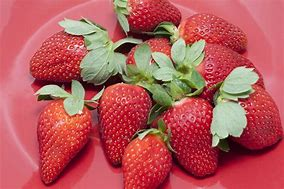Fresa: (28, 16, 114, 87), (161, 92, 224, 180), (36, 93, 95, 186), (96, 80, 155, 167), (184, 42, 265, 103), (218, 81, 284, 155), (120, 128, 174, 189), (178, 11, 249, 56), (126, 35, 180, 82), (117, 1, 186, 36)
